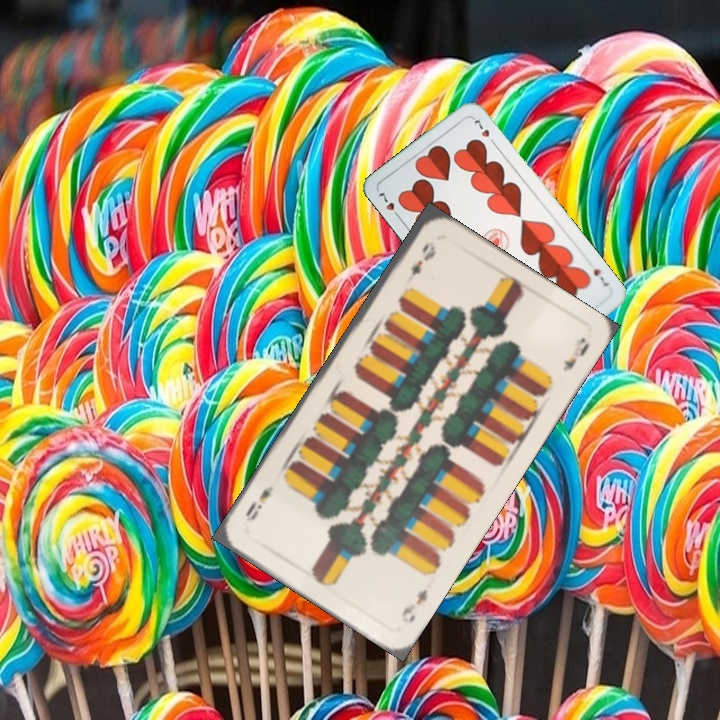E9: (397, 584, 430, 626), (406, 237, 438, 279)
H7: (374, 186, 404, 222), (589, 264, 612, 289)
